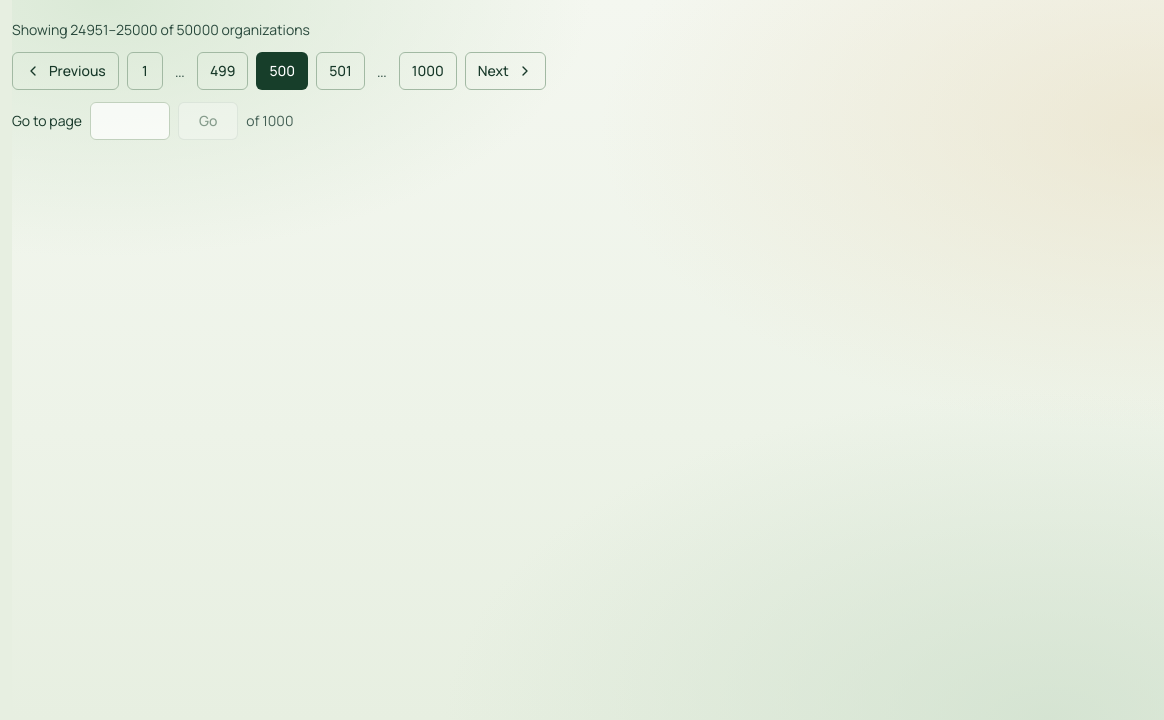
large directories have compact ellipses and validated direct page jumps
The image size is (1164, 720).
Check: the text "…" is shown 2 times, box [175,60,185,82]; [377,60,387,82]
Check: the number of buttons named "Page " is 5, box [127,52,163,90]; [197,52,248,90]; [256,52,308,90]; [316,52,365,90]; [399,52,457,90]
Type "123" into the number field labelled "Go to page" at point(130, 121), box [90,102,170,140]
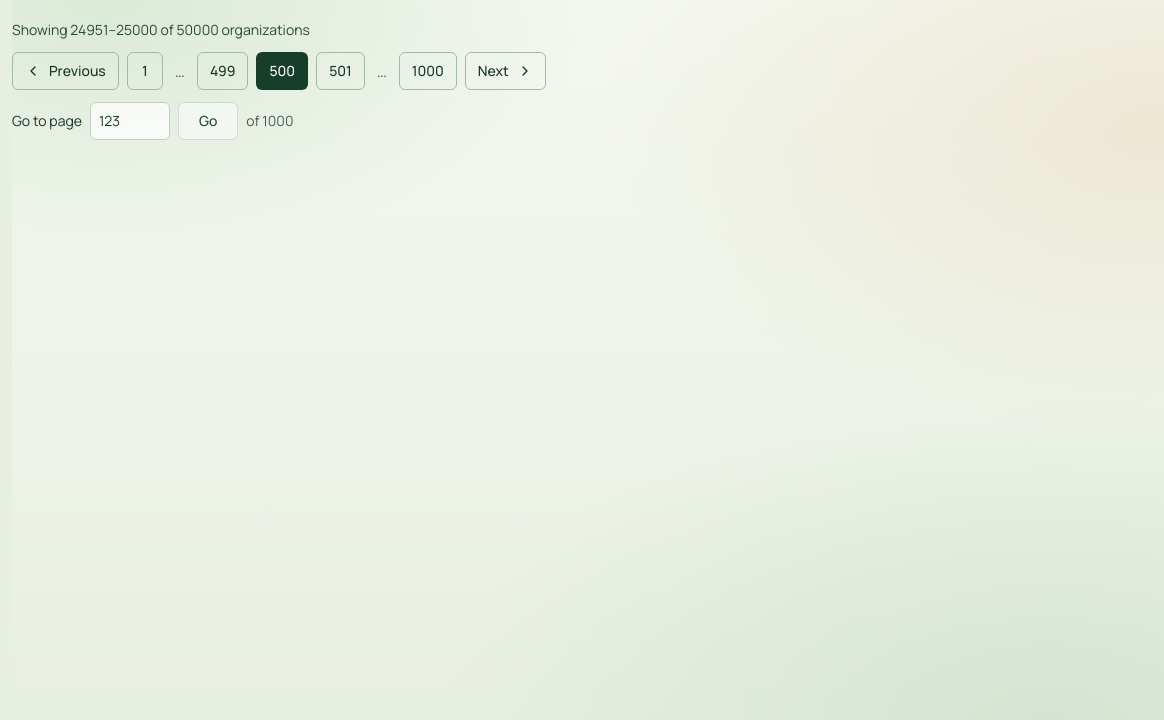
Submit the form labelled "Go to page", box [12,102,294,140]
Replace the text in the number field labelled "Go to page" with "1001" at point(130, 121), box [90,102,170,140]
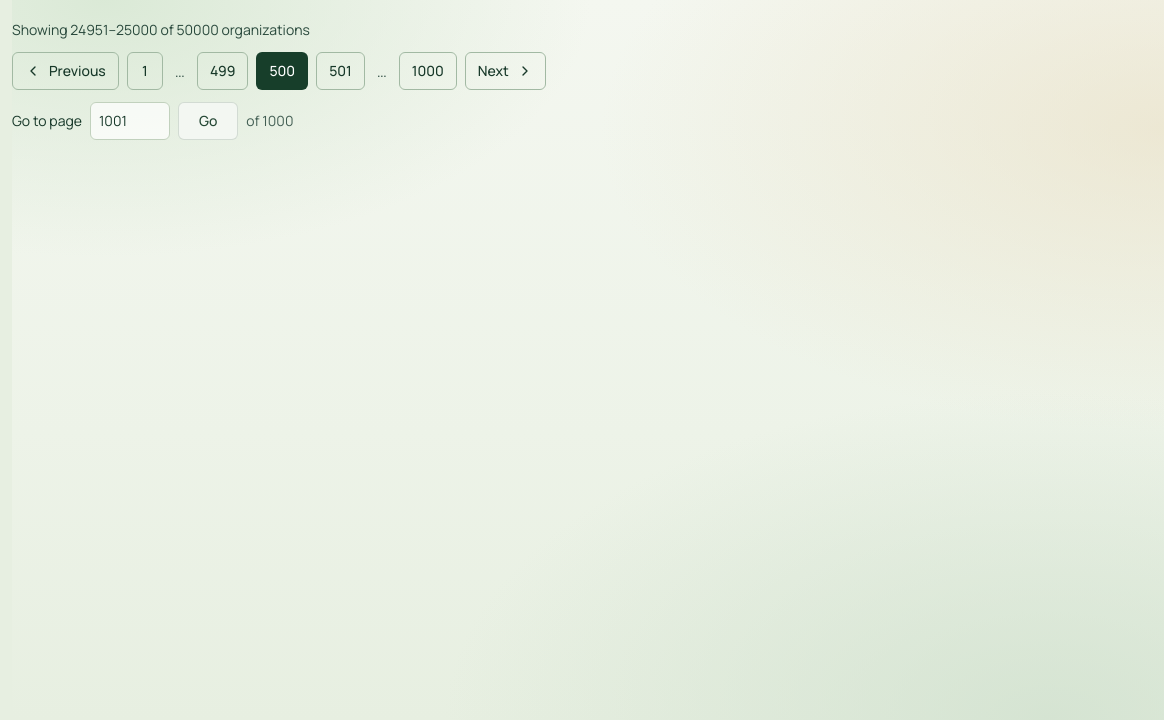
Submit the form labelled "Go to page", box [12,102,294,140]
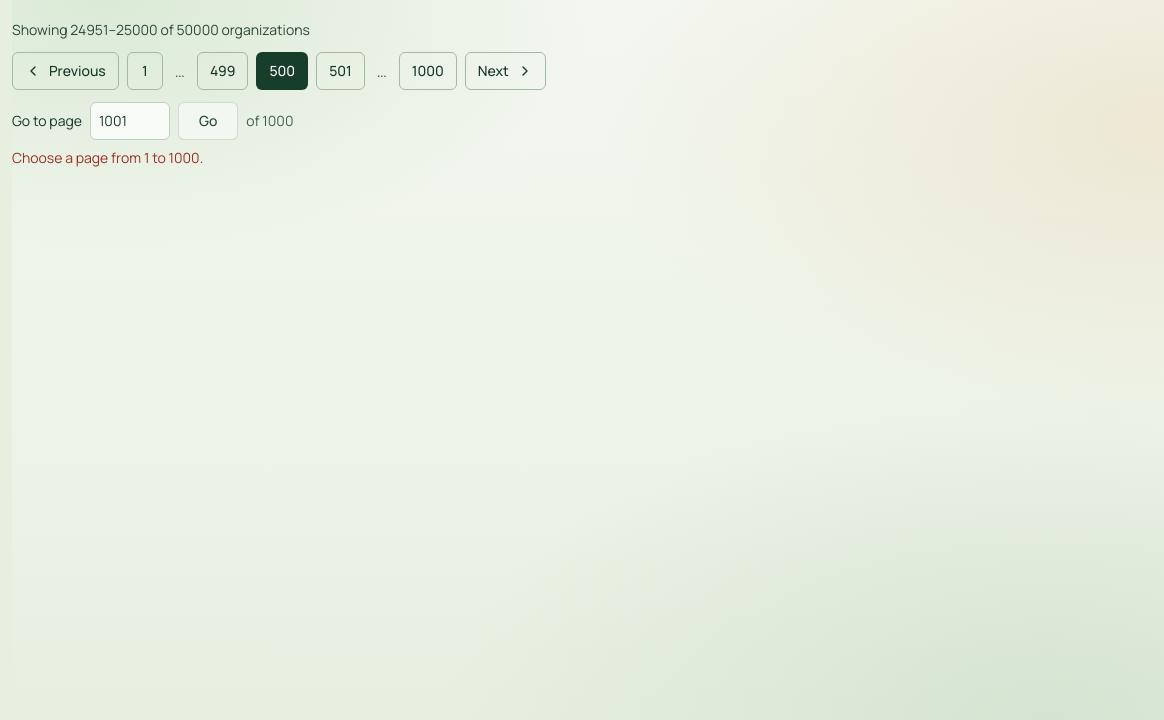
Check: the message "Choose a page from 1 to 1000." is shown, box [12,148,203,167]
